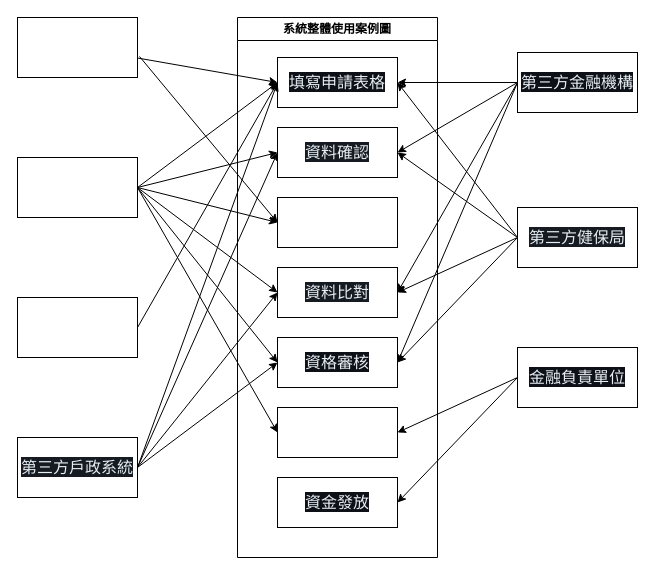
The diagram is 655 pixels wide and 575 high, and some of its shapes have lost their labels. Here are the shapes that lost their labels. From the top down, the centre of each, then its label:
(x=77, y=47): 申請人
(x=77, y=187): 政府機關人員
(x=337, y=222): 提交申請
(x=77, y=327): 設計師
(x=337, y=432): 生成報表
